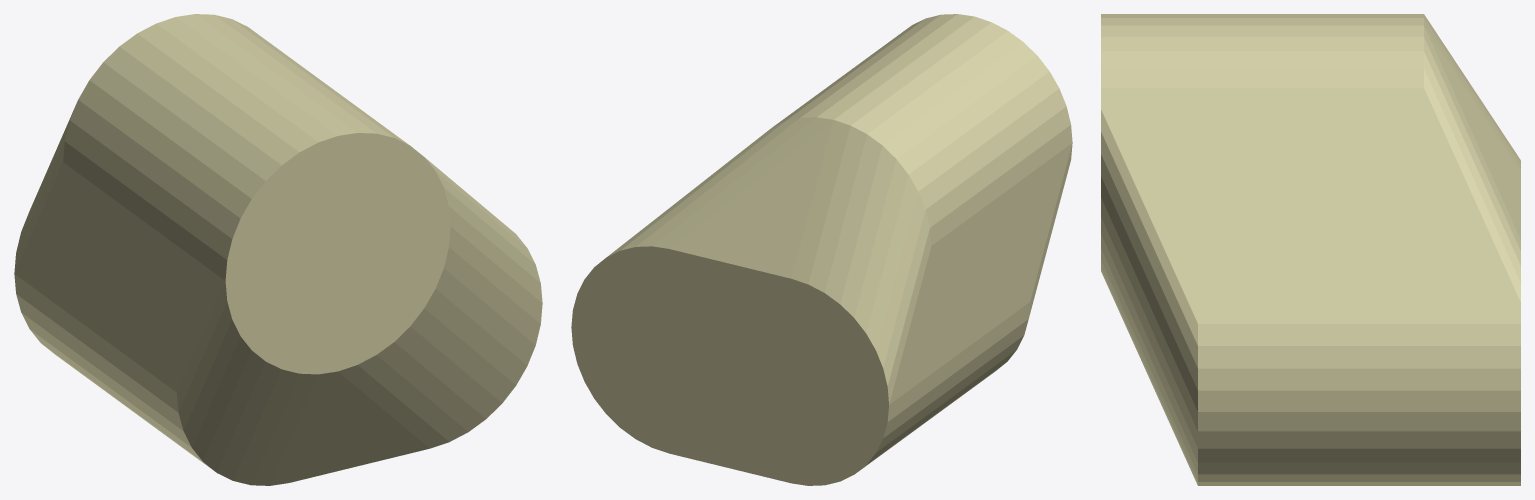
Rendered from hull3d.glb.
The picture shows the model from 3 angles, left to right: view 1: azimuth 30°, elevation 25°; view 2: azimuth 150°, elevation 25°; view 3: azimuth 270°, elevation 25°; orthographic projection. The views are drawn at different scales.
Parts seen in each view (by area): view 1: geometry_0; view 2: geometry_0; view 3: geometry_0.
Part boxes in pixels (x1,y1,x2,y2): geometry_0: (14, 14, 542, 485); geometry_0: (571, 14, 1072, 485); geometry_0: (1101, 14, 1520, 485).
Bounding box in the file's own units: 13 × 13 × 13.
